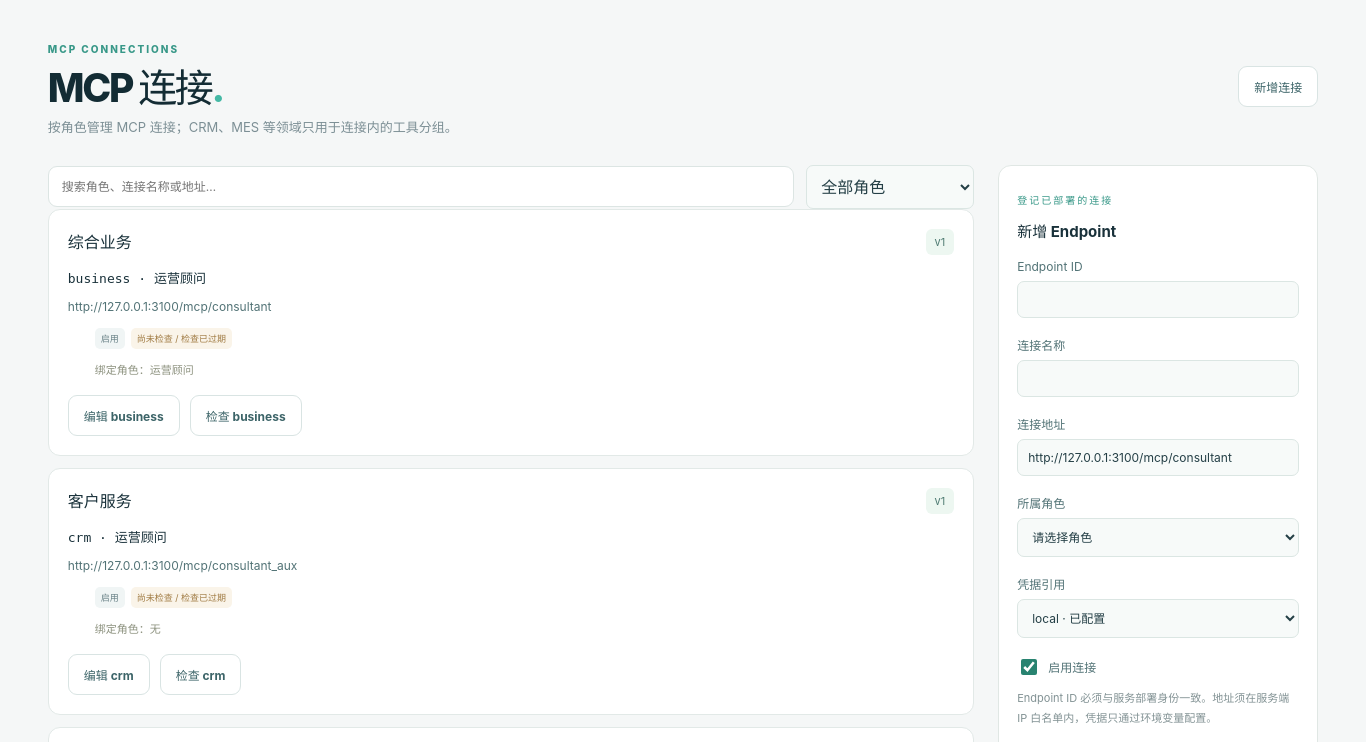
Endpoint-aware capabilities › searches role connections, edits without secrets and explicitly checks
Check: the button "编辑 crm" is shown, box top-left (68, 654), bottom-right (150, 695)
Type "客户" into the search field named "搜索连接" at (421, 187), box top-left (48, 166), bottom-right (794, 207)
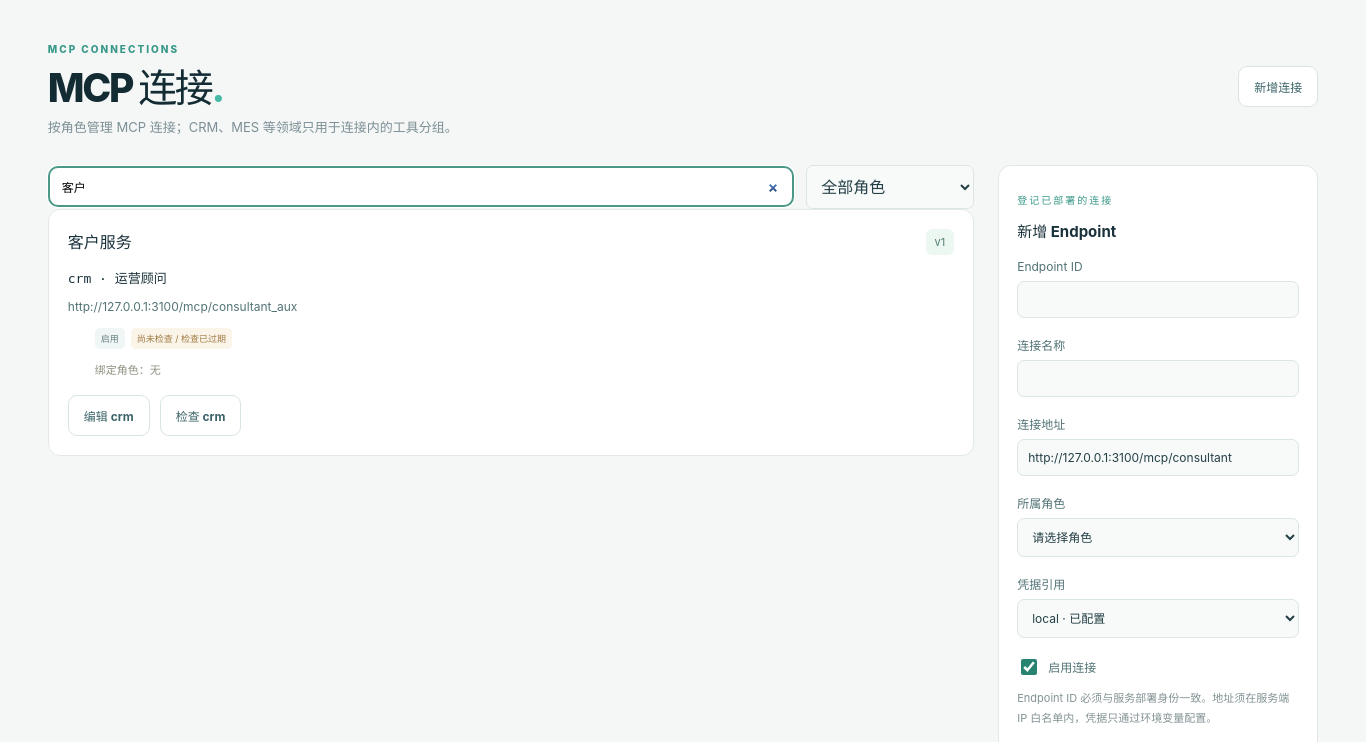
Check: the button "编辑 business" is gone
Click the button "编辑 crm" at (109, 415), box top-left (68, 395), bottom-right (150, 436)
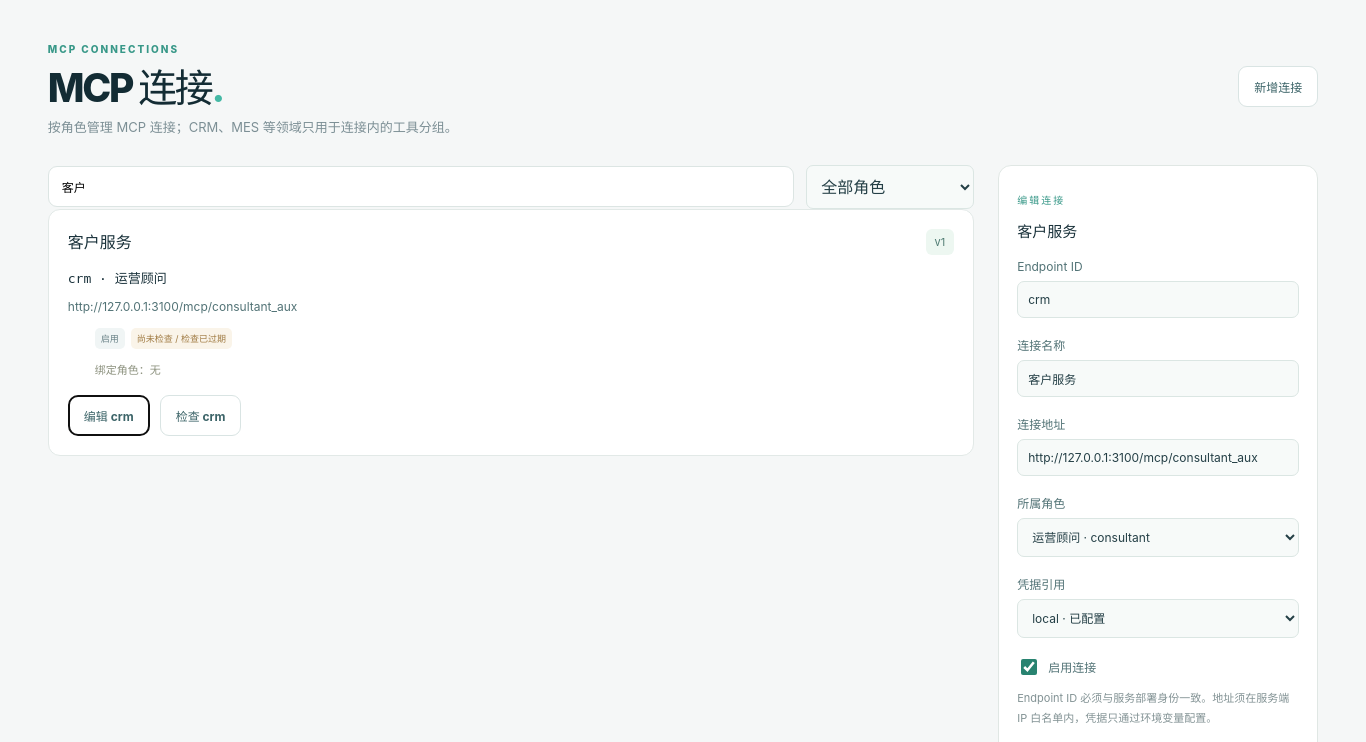
Check: the field labelled "Endpoint ID" is disabled, box top-left (1017, 281), bottom-right (1299, 318)
Select "运营顾问 · consultant" in the dropdown labelled "所属角色" at (1158, 537), box top-left (1017, 518), bottom-right (1299, 557)
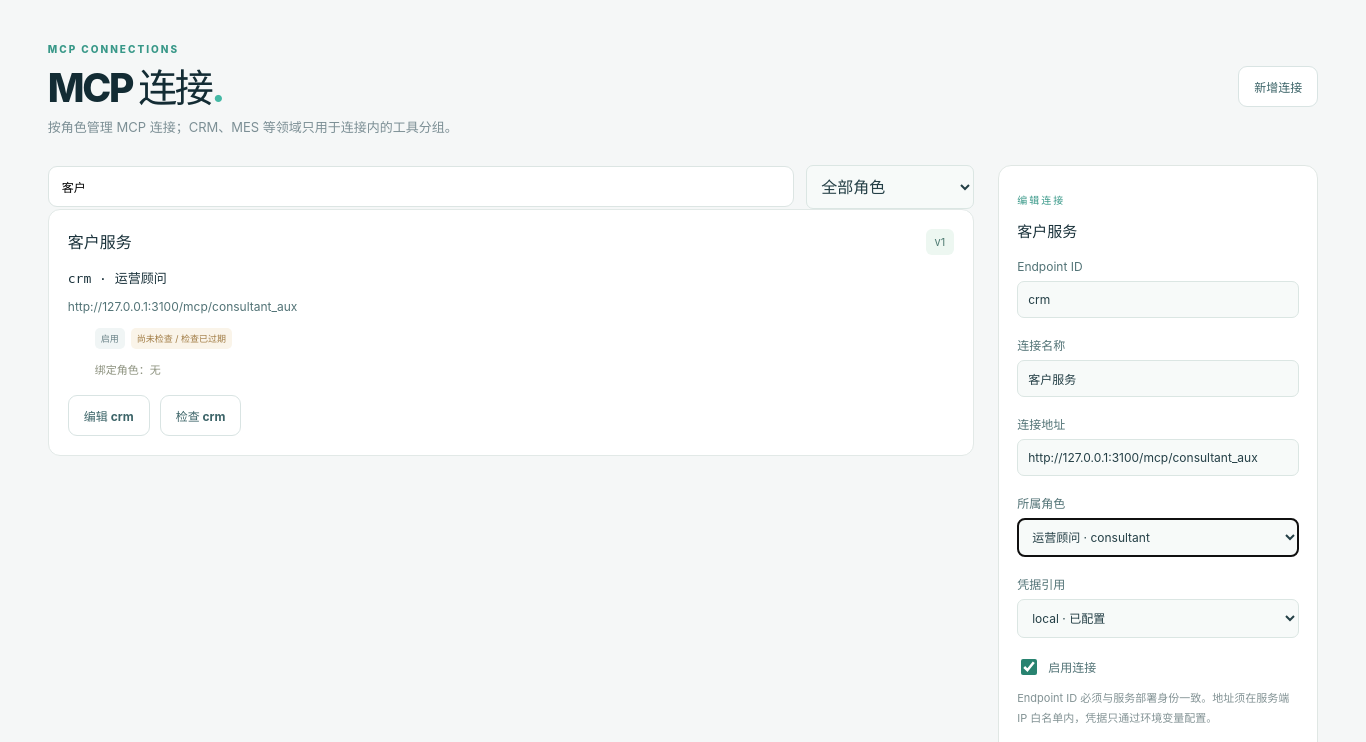
Type "备用" into the field labelled "连接名称" at (1158, 378), box top-left (1017, 360), bottom-right (1299, 397)
(page scrolled)
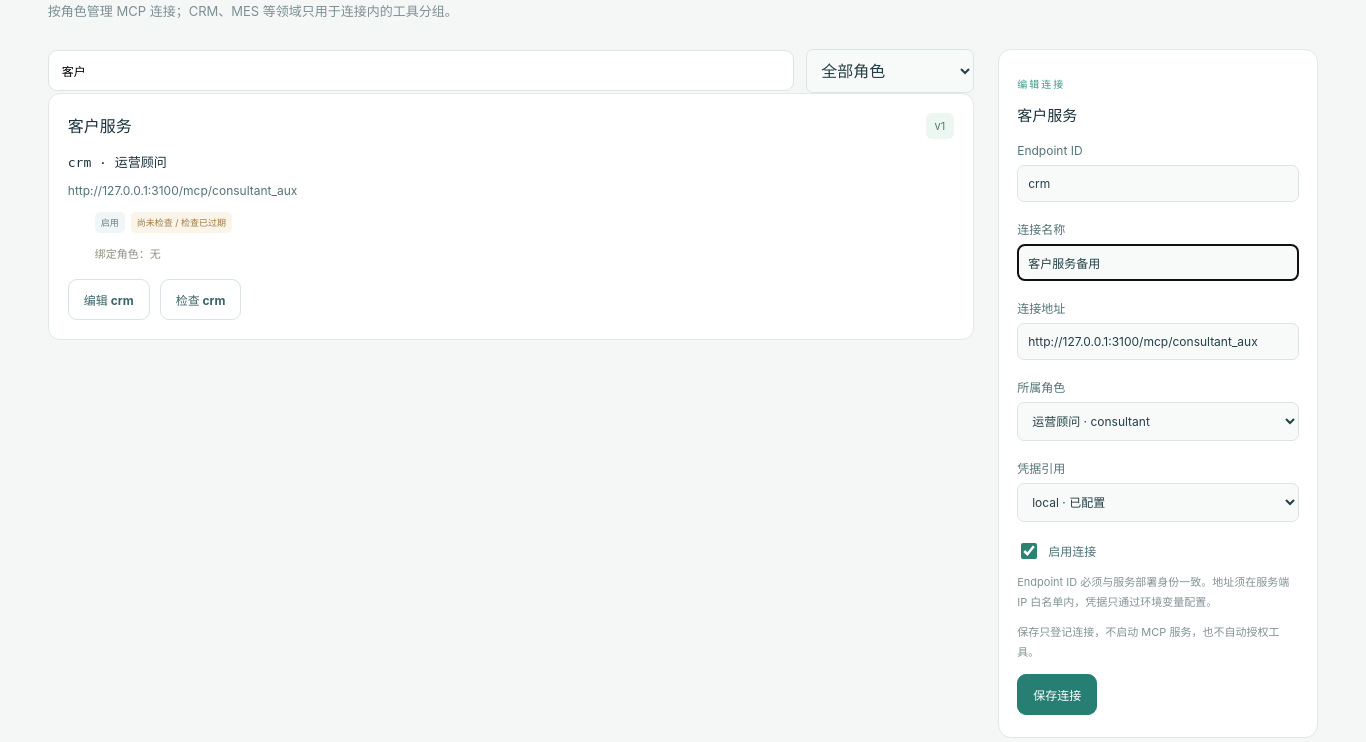
Click the button "保存连接" at (1057, 694), box top-left (1017, 674), bottom-right (1097, 715)
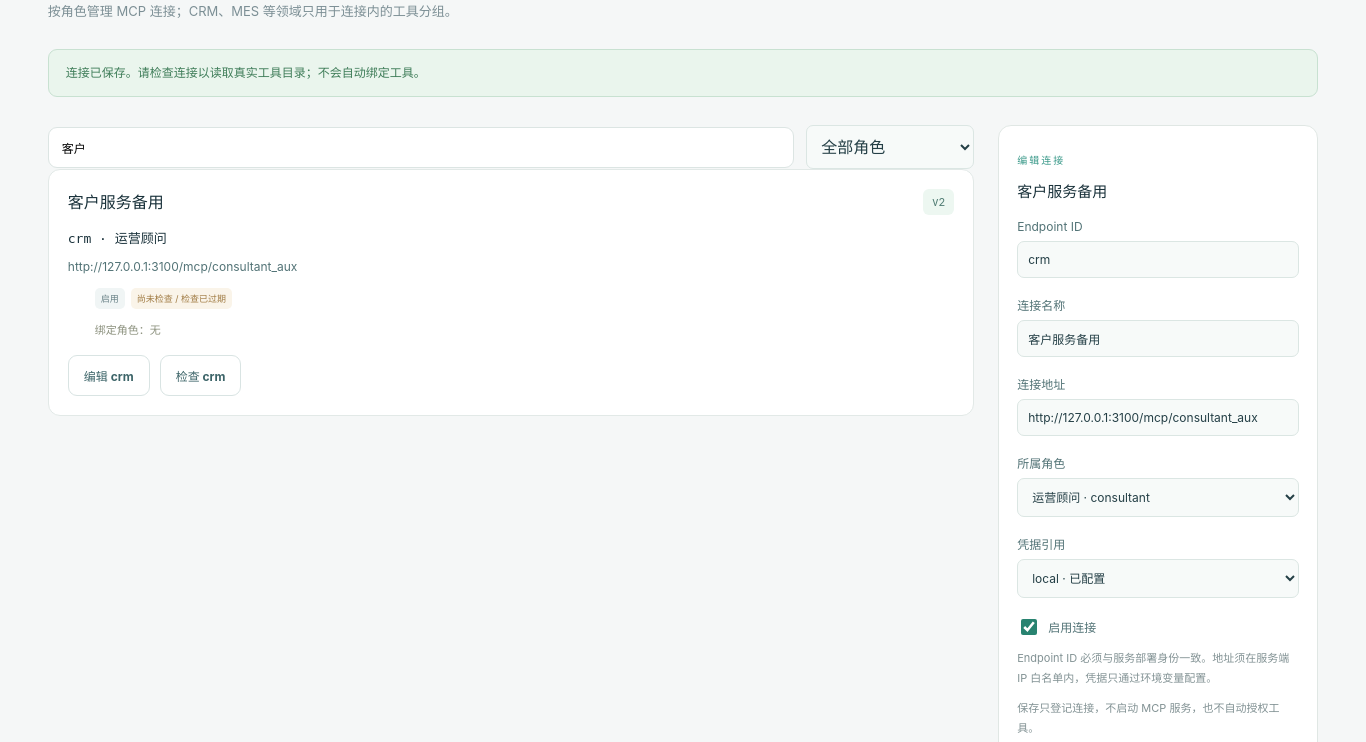
Check: the message shows "连接已保存", box top-left (66, 65), bottom-right (426, 80)
Click the button "检查 crm" at (200, 376), box top-left (160, 355), bottom-right (241, 396)
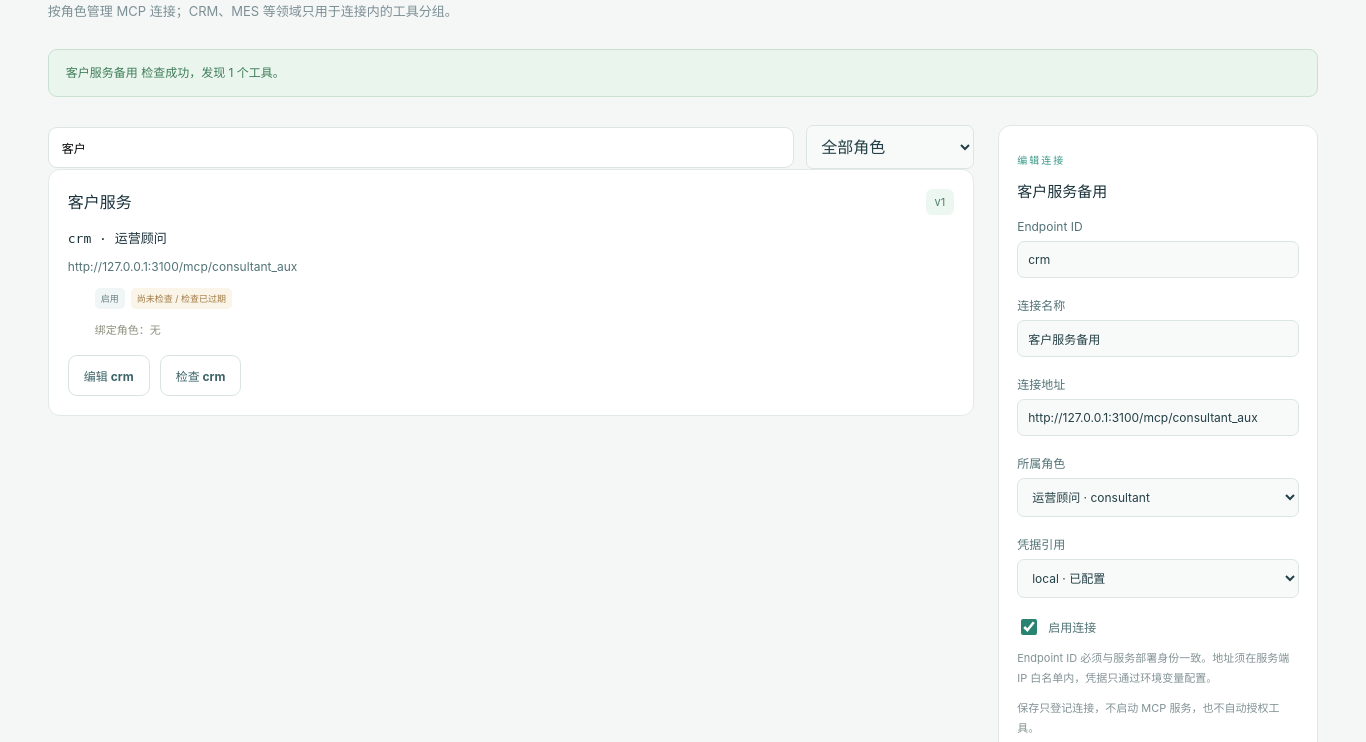
Check: the message shows "检查成功", box top-left (66, 65), bottom-right (285, 80)
